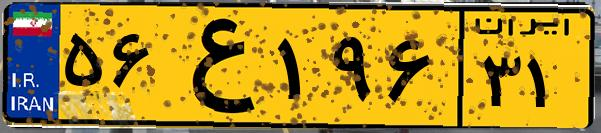1: (270, 28, 330, 110), (525, 38, 570, 115)
3: (475, 38, 525, 113)
5: (57, 26, 110, 100)
6: (385, 28, 445, 110), (110, 28, 158, 98)
9: (330, 28, 385, 110)
ع: (158, 12, 270, 120)
